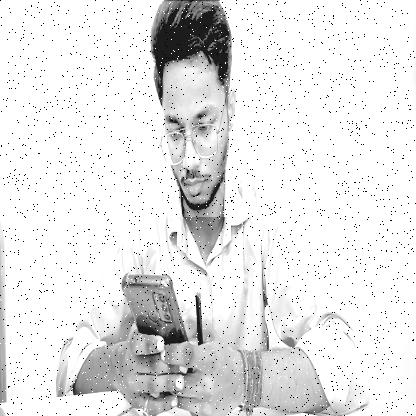Distracted: (152, 1, 238, 217)
